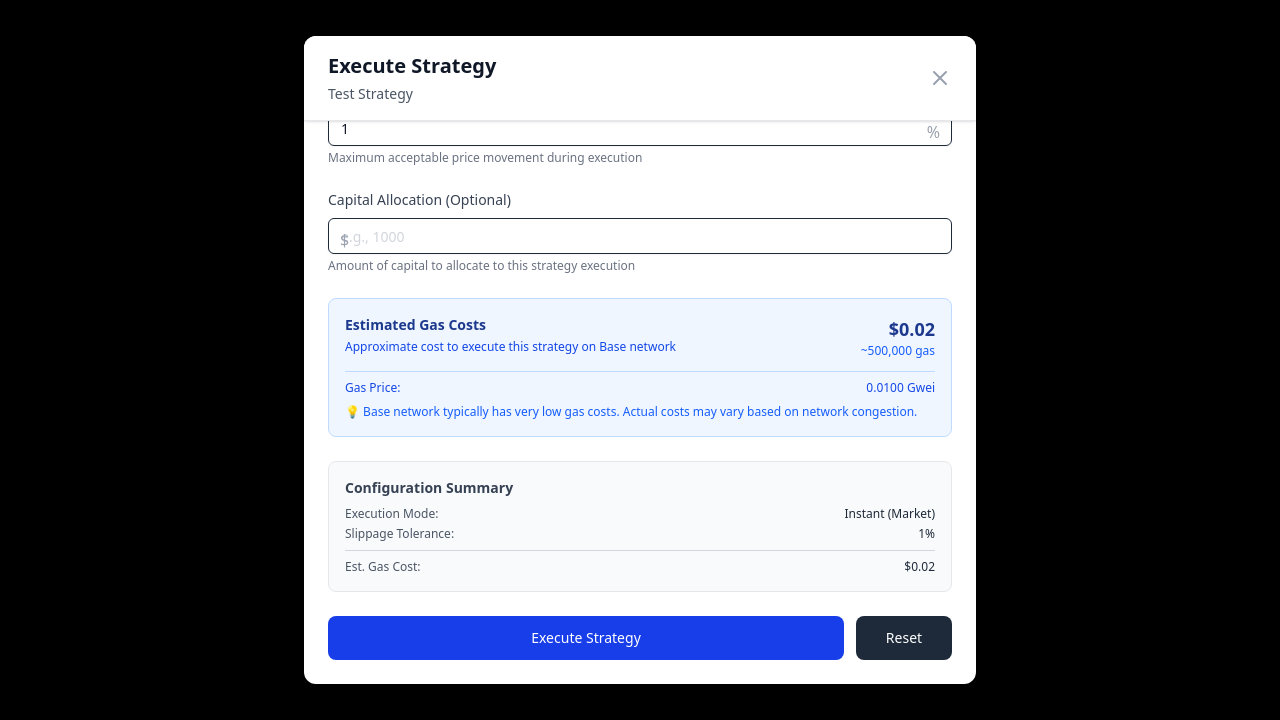
StrategyExecutionModal › Status Updates › polls for status updates
(page scrolled)
Step 1. Click the button "Execute Strategy" → click(586, 638), box 328,616 -> 844,660
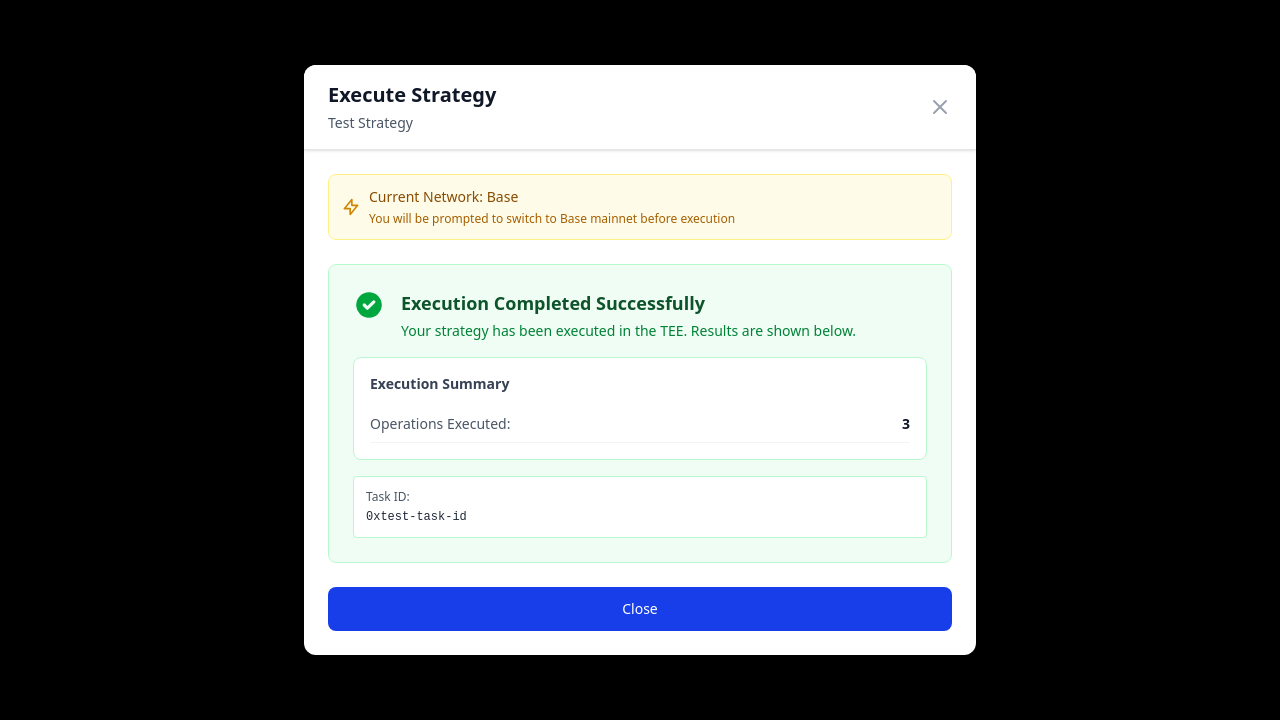
Result: the heading "Execution Completed Successfully" is shown at 401,291 -> 705,315
